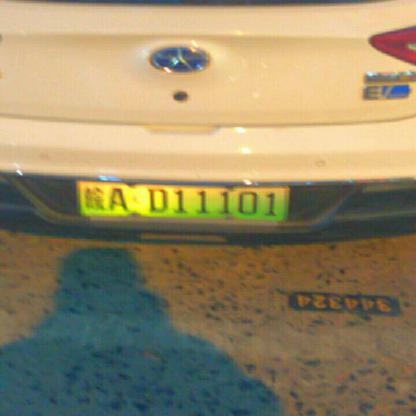lp: (76, 181, 286, 219)
